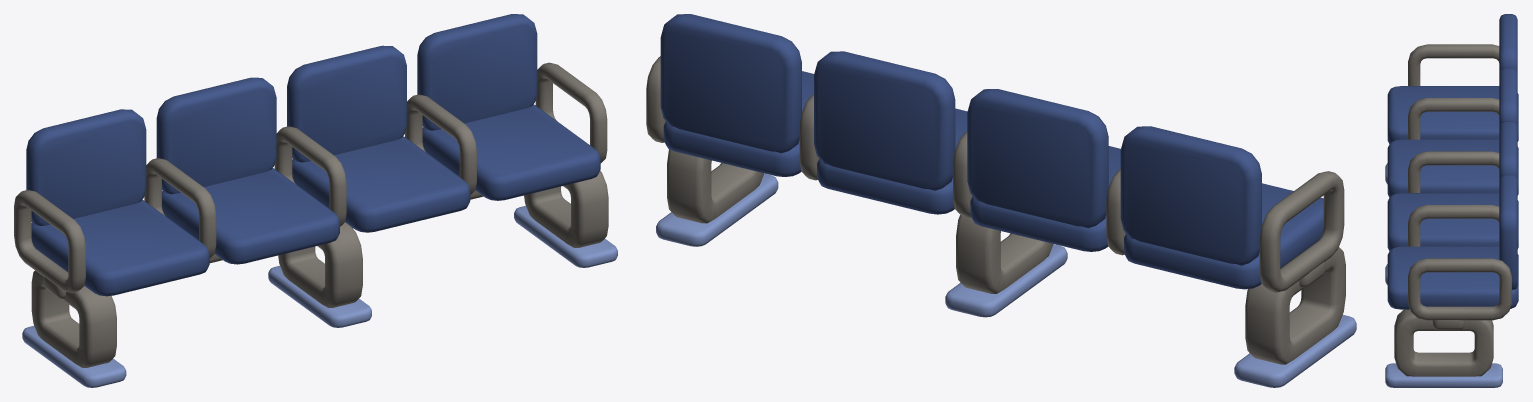
The model's file is banquette_4p.glb.
The picture shows the model from 3 angles, left to right: view 1: azimuth 30°, elevation 25°; view 2: azimuth 150°, elevation 25°; view 3: azimuth 270°, elevation 25°; orthographic projection. The views are drawn at different scales.
Visible parts, largest first — view 1: BQ4_Bleu_Moyen, BQ4_Gris_Chaud, BQ4_Bleu_Clair; view 2: BQ4_Bleu_Moyen, BQ4_Gris_Chaud, BQ4_Bleu_Clair; view 3: BQ4_Bleu_Moyen, BQ4_Gris_Chaud, BQ4_Bleu_Clair.
Part boxes in pixels (left/top/right/bottom): BQ4_Bleu_Moyen: left=26, top=14, right=600, bottom=296; BQ4_Gris_Chaud: left=14, top=62, right=608, bottom=367; BQ4_Bleu_Clair: left=22, top=205, right=617, bottom=387; BQ4_Bleu_Moyen: left=660, top=14, right=1323, bottom=289; BQ4_Gris_Chaud: left=646, top=56, right=1345, bottom=364; BQ4_Bleu_Clair: left=656, top=173, right=1356, bottom=387; BQ4_Bleu_Moyen: left=1387, top=14, right=1518, bottom=309; BQ4_Gris_Chaud: left=1394, top=44, right=1511, bottom=376; BQ4_Bleu_Clair: left=1385, top=163, right=1502, bottom=387.
Size of the model in its own units: 2.3 by 0.82 by 0.59.
